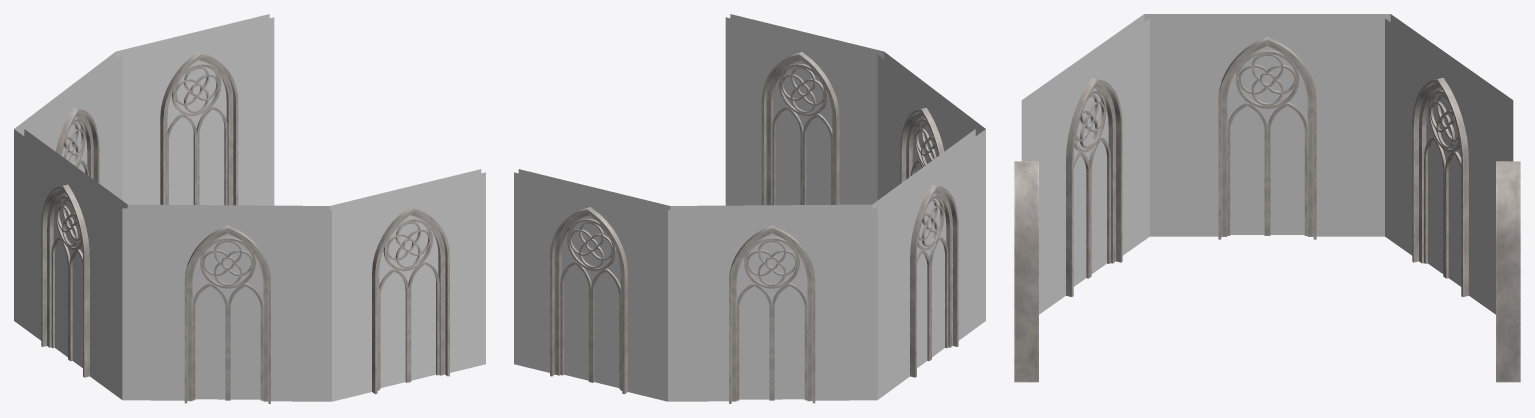
File: Ambulatory_Inner_B_C.fbx
The picture shows the model from 3 angles, left to right: view 1: azimuth 30°, elevation 25°; view 2: azimuth 150°, elevation 25°; view 3: azimuth 270°, elevation 25°; orthographic projection. The views are drawn at different scales.
Visible parts, largest first — view 1: Ambulatory_Inner_B_C; view 2: Ambulatory_Inner_B_C; view 3: Ambulatory_Inner_B_C.
Boxes of the visible parts, x1,y1,x2,y2 form: Ambulatory_Inner_B_C: (14,14,485,403); Ambulatory_Inner_B_C: (514,14,985,403); Ambulatory_Inner_B_C: (1014,14,1520,382).
Size of the model in its own units: 10.31 by 12.61 by 6.
